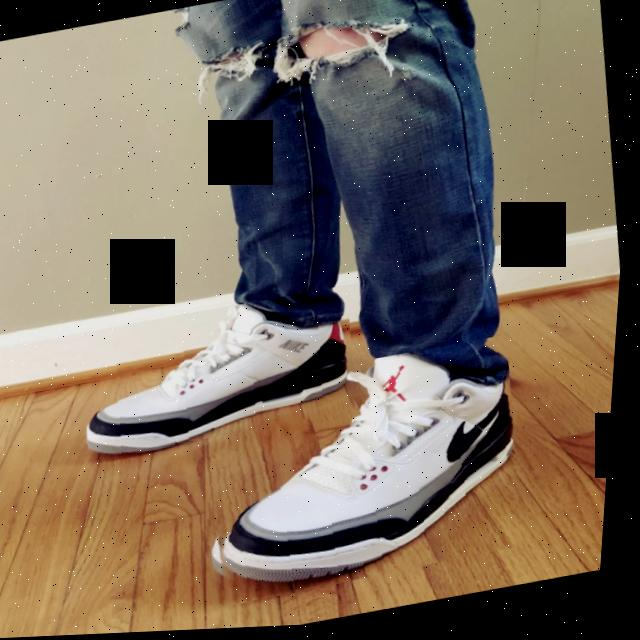shoe: (191, 338, 542, 612), (78, 288, 370, 463)
